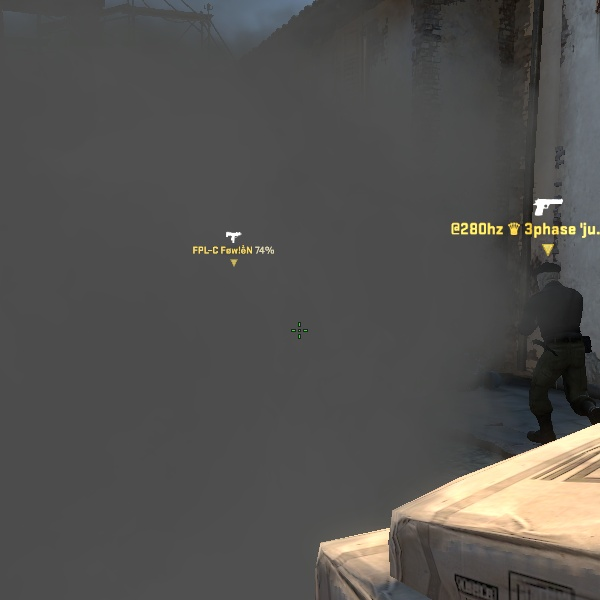t_body: (492, 259, 593, 453)
